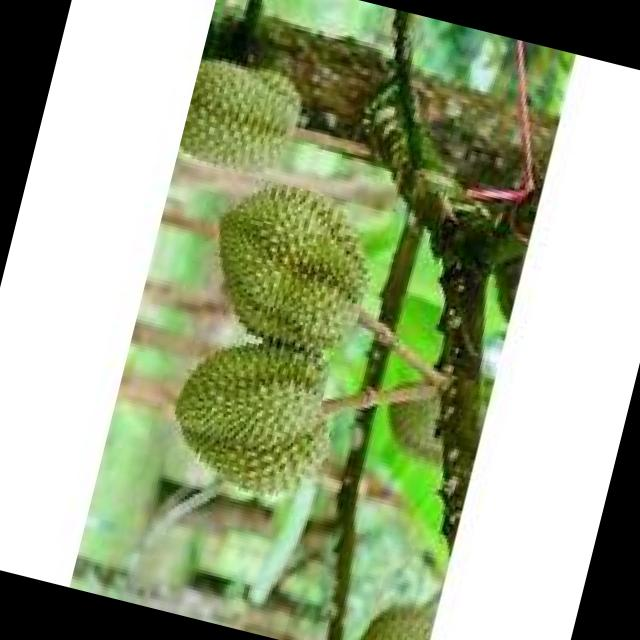fruit: (184, 152, 408, 375), (148, 313, 368, 528)
